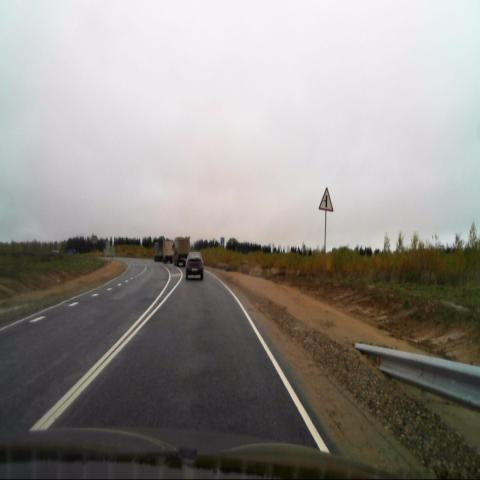2_3_3: (318, 187, 334, 211)
